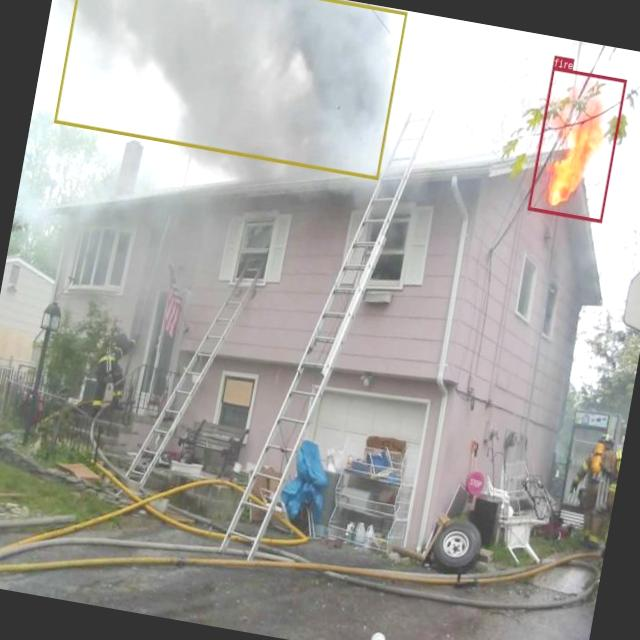fire: (527, 66, 626, 222)
smoke: (52, 0, 406, 179)
